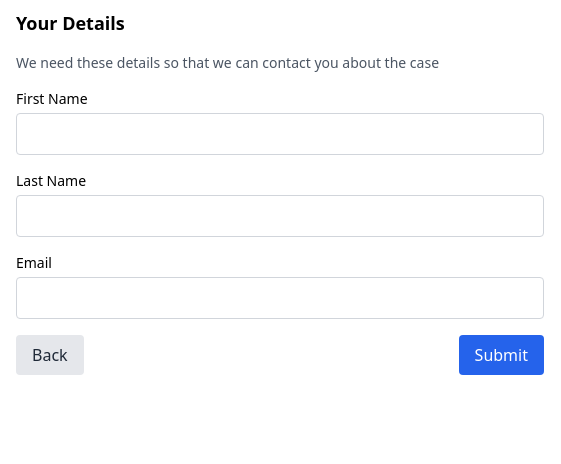
Test case: Your details page › validation › shows an error for every empty field
Click the button "Submit".
click(502, 355)  # box [459,335,544,375]
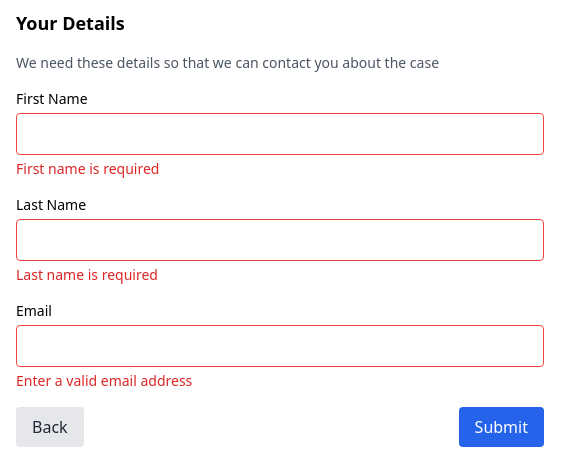
Now the text with test id "firstName-error" reads "First name is required", box [16,159,159,178]
Now the text with test id "lastName-error" reads "Last name is required", box [16,265,158,284]
Now the text with test id "email-error" reads "Enter a valid email address", box [16,371,192,390]
